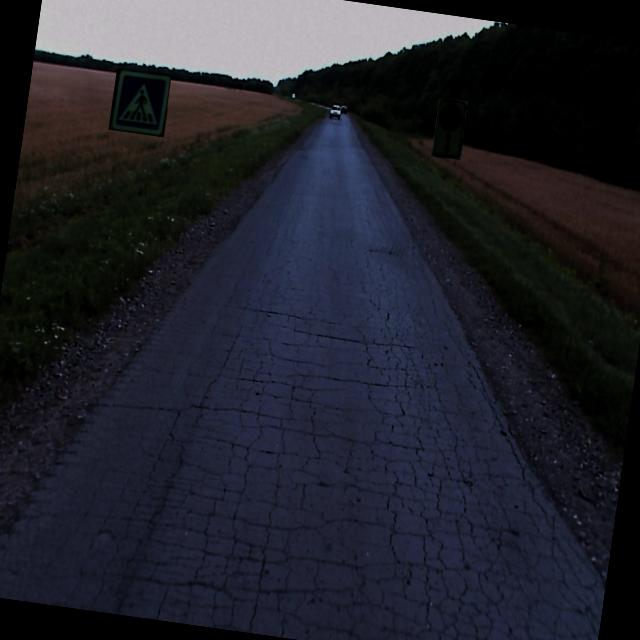road: (0, 117, 604, 640)
